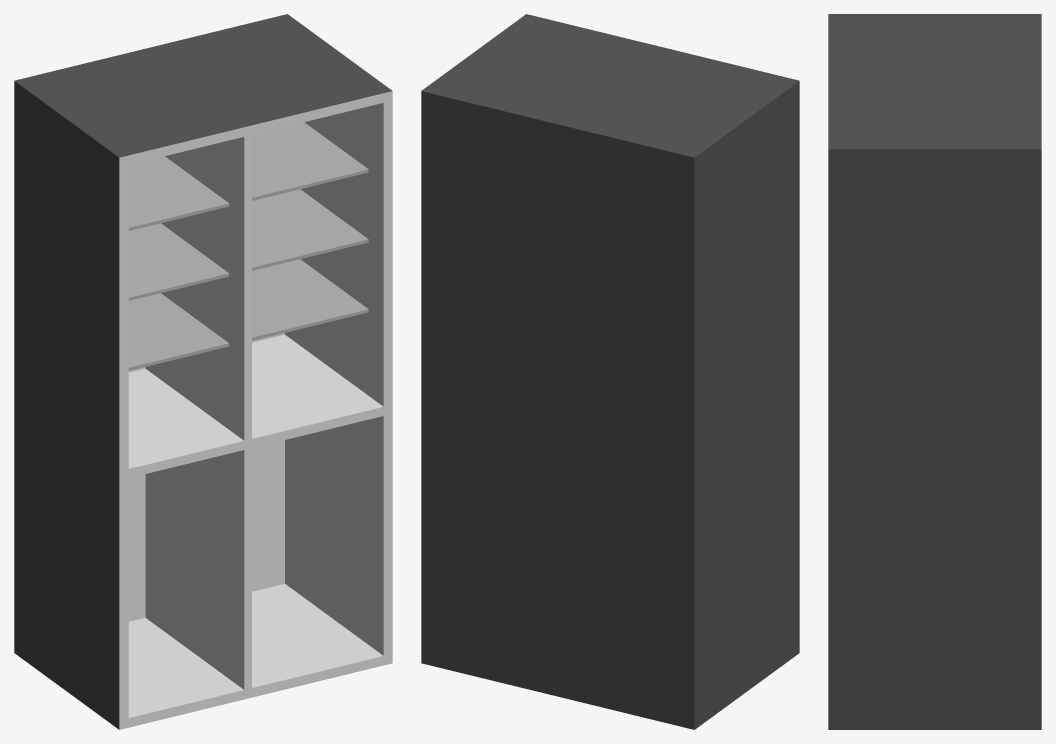
Rendered from Refrigerator3_C2_01.fbx.
The picture shows the model from 3 angles, left to right: view 1: azimuth 30°, elevation 25°; view 2: azimuth 150°, elevation 25°; view 3: azimuth 270°, elevation 25°; orthographic projection.
Visible parts, largest first — view 1: Refrigerator3_C2_01; view 2: Refrigerator3_C2_01; view 3: Refrigerator3_C2_01.
Part boxes in pixels (x1,y1,x2,y2): Refrigerator3_C2_01: [14, 14, 392, 729]; Refrigerator3_C2_01: [421, 14, 799, 729]; Refrigerator3_C2_01: [828, 14, 1041, 729].
Bounding box in the file's own units: 90 × 180 × 60.
